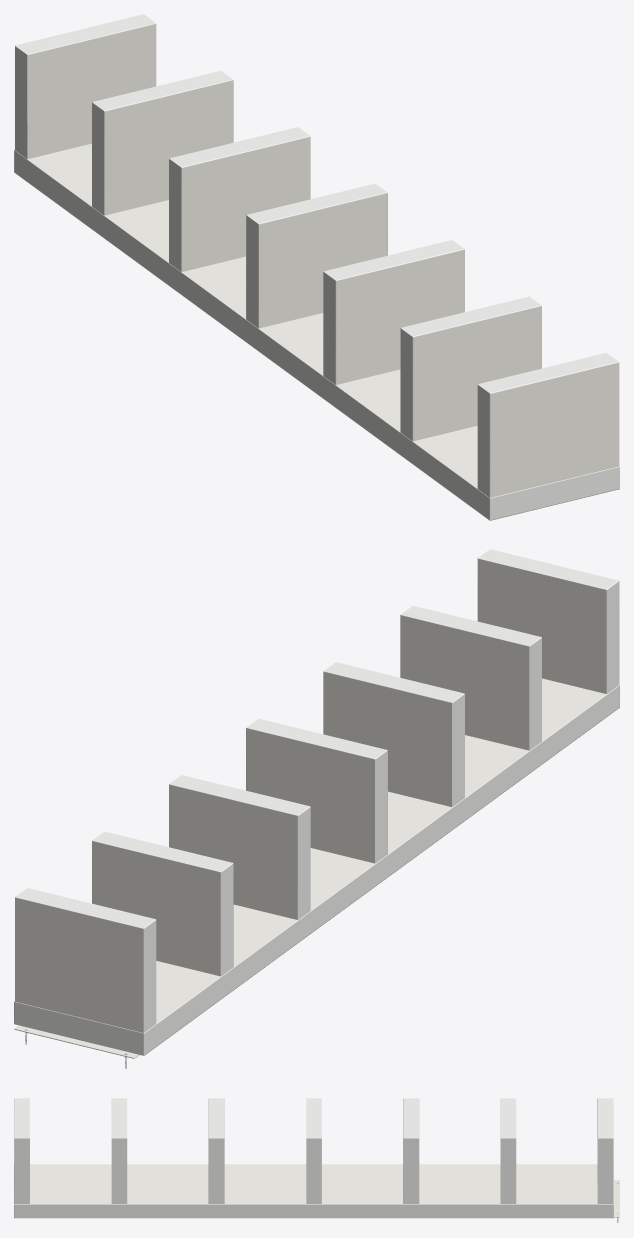
File: lack_wall_shelf_unit_white.glb
3 renders of one model, top to bottom at view 1: azimuth 30°, elevation 25°; view 2: azimuth 150°, elevation 25°; view 3: azimuth 270°, elevation 25°, orthographic. The views are drawn at different scales.
Parts seen in each view (by area): view 1: 60282186-LACK001; view 2: 60282186-LACK001; view 3: 60282186-LACK001.
Boxes of the visible parts, x1,y1,x2,y2 form: 60282186-LACK001: [14, 14, 619, 520]; 60282186-LACK001: [14, 549, 619, 1068]; 60282186-LACK001: [14, 1098, 619, 1222].
Bounding box in the file's own units: 0.3 × 0.314 × 1.92.
Materials: 1 (1 with a texture image).
